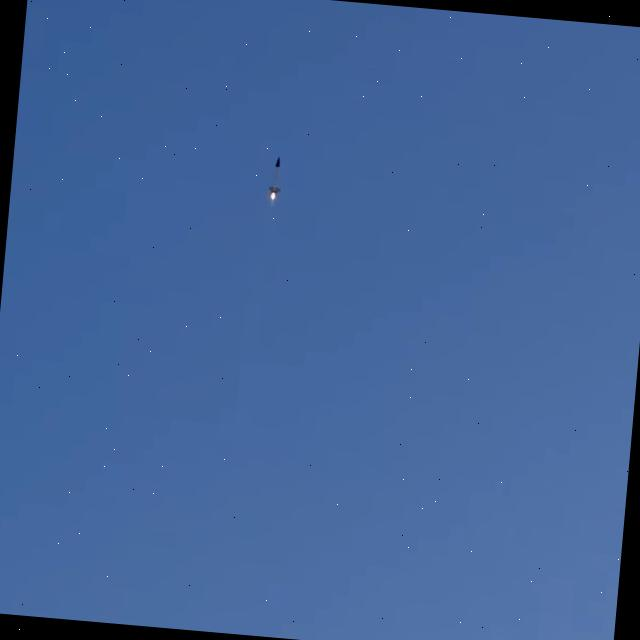rocket: (267, 159, 279, 202)
